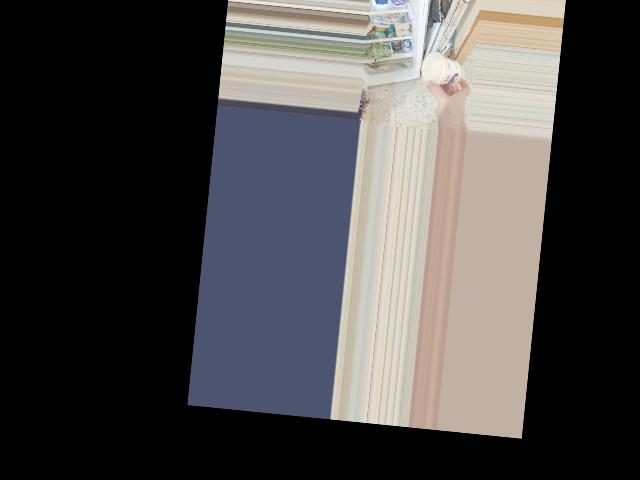cotage: (420, 51, 465, 91)
